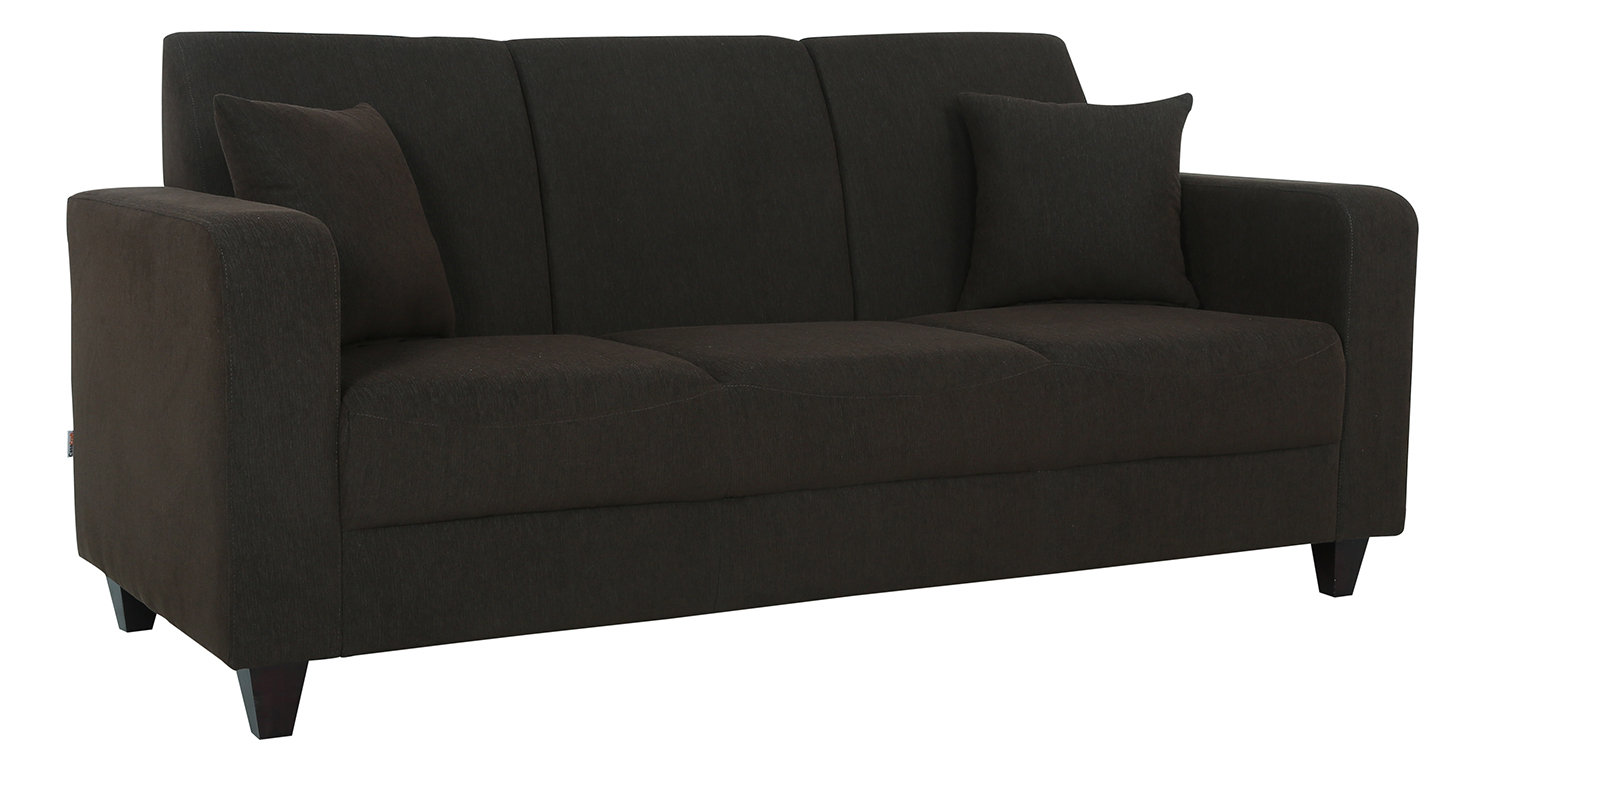Alba Three Seater Sofa in Chestnut Brown Colour by CasaCraft: (61, 28, 1426, 733)
